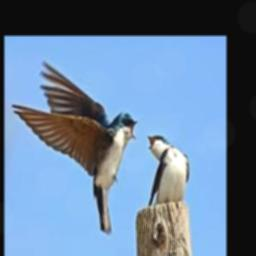Swallow: (12, 61, 138, 236), (148, 134, 190, 206)
